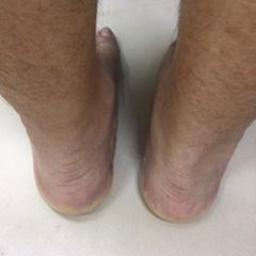Back View -Both Feet-: (6, 15, 253, 237)
